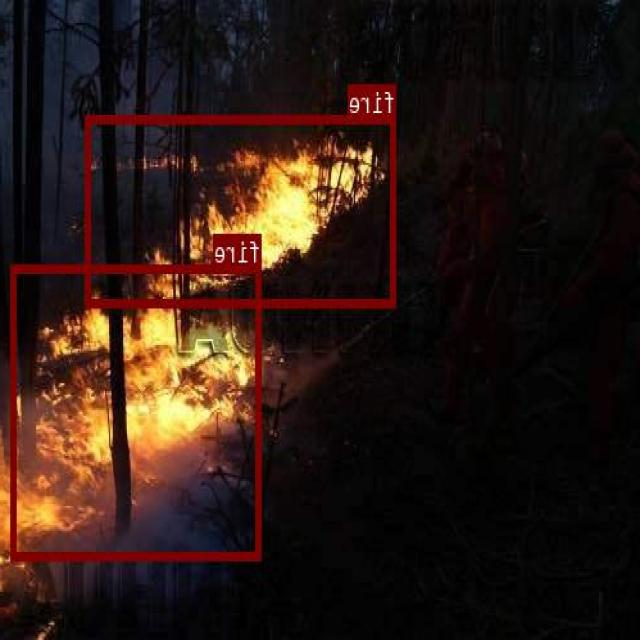fire: (12, 263, 262, 559), (87, 115, 397, 305)
